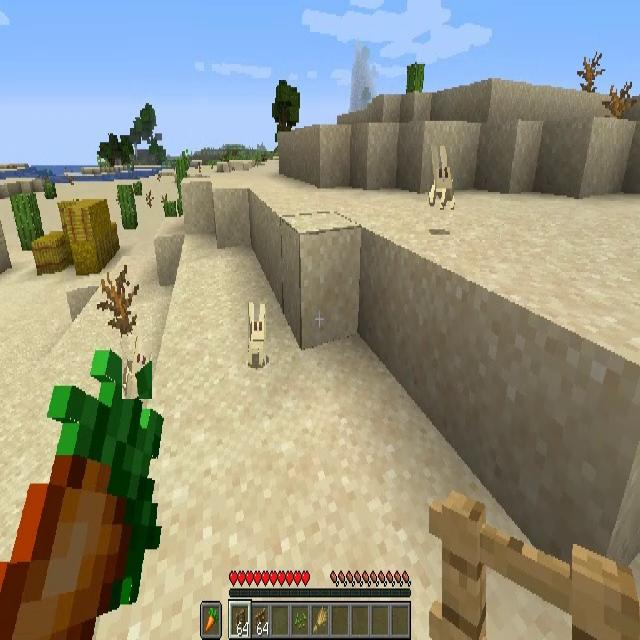rabbit: (122, 337, 152, 399), (430, 146, 454, 212), (248, 301, 266, 368)
